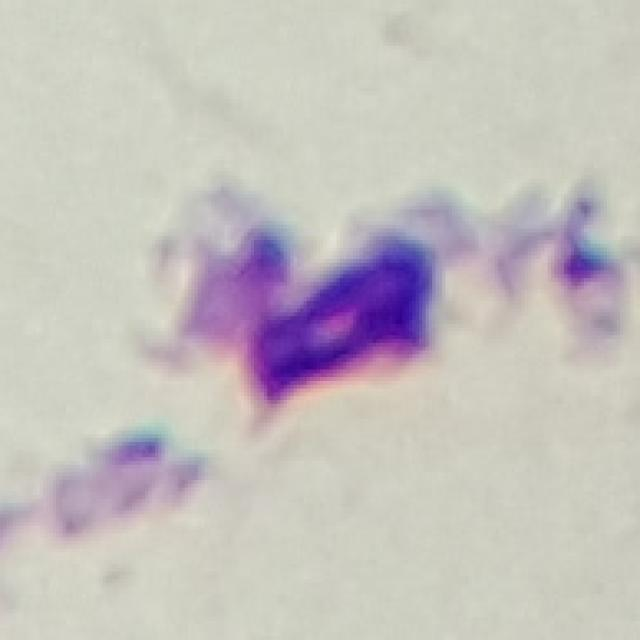non-sperm: (166, 199, 449, 402)
